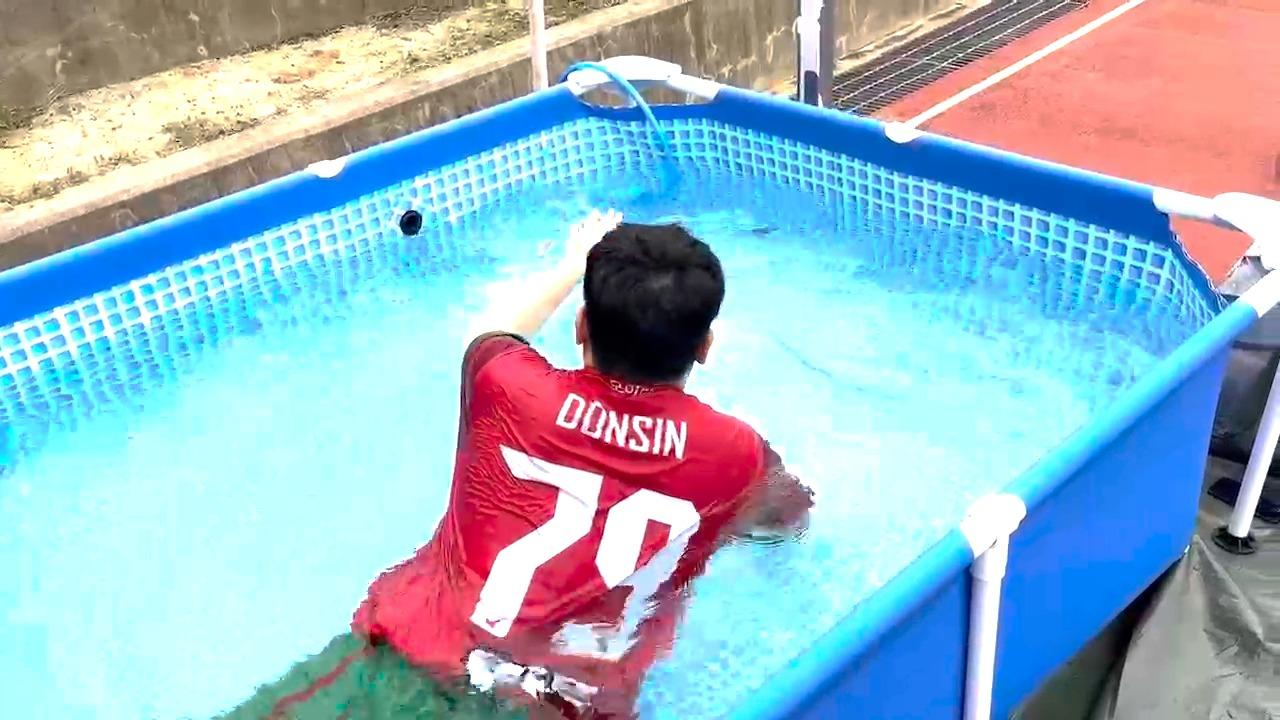Swimming: (170, 176, 895, 713)
